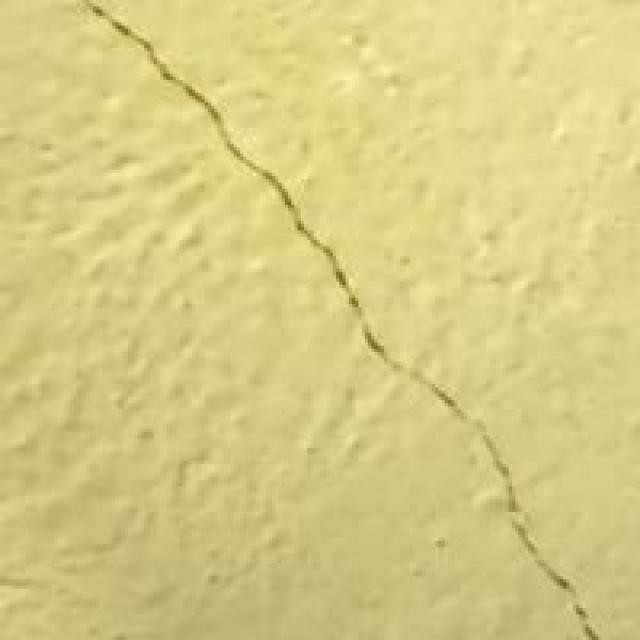Crack: (83, 0, 602, 634)
